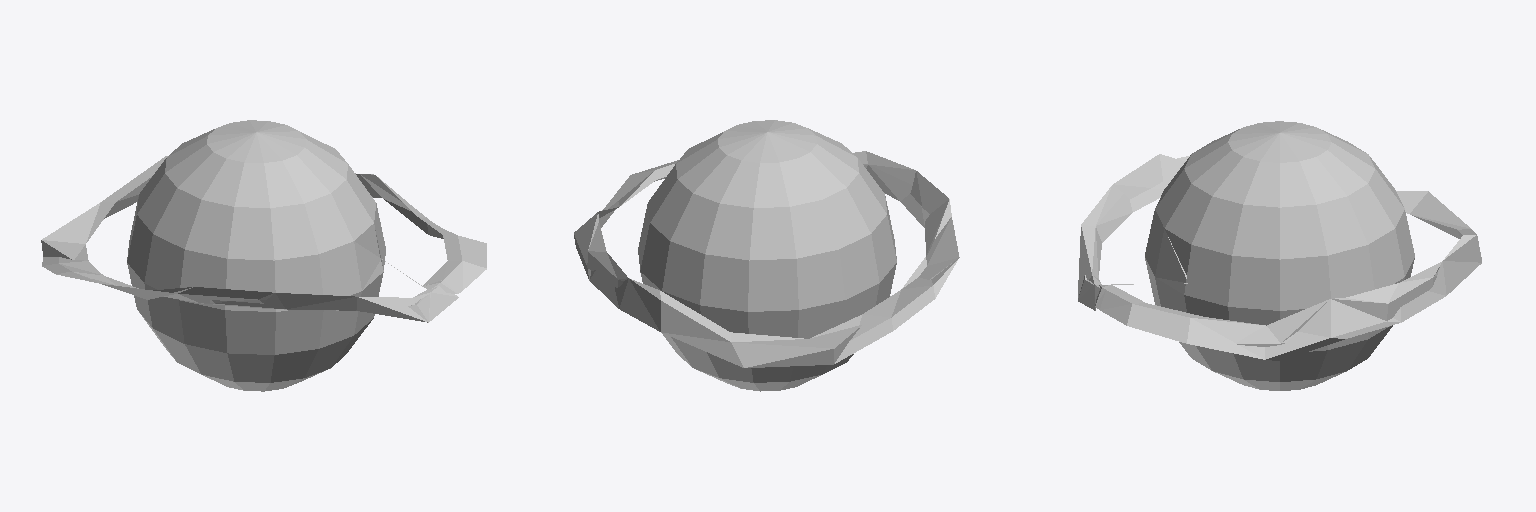
Rendered from saturn.obj.
3 views of the same model, side by side, from view 1: azimuth 30°, elevation 25°; view 2: azimuth 150°, elevation 25°; view 3: azimuth 270°, elevation 25° (orthographic).
Parts seen in each view (by area): view 1: Sphere; view 2: Sphere; view 3: Sphere.
Part boxes in pixels (left/top/right/bottom): Sphere: left=41, top=120, right=486, bottom=391; Sphere: left=574, top=120, right=959, bottom=391; Sphere: left=1078, top=121, right=1481, bottom=390.
Bounding box in the file's own units: 3.12 × 2 × 2.97.